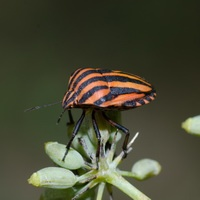insect: (62, 68, 155, 160)
